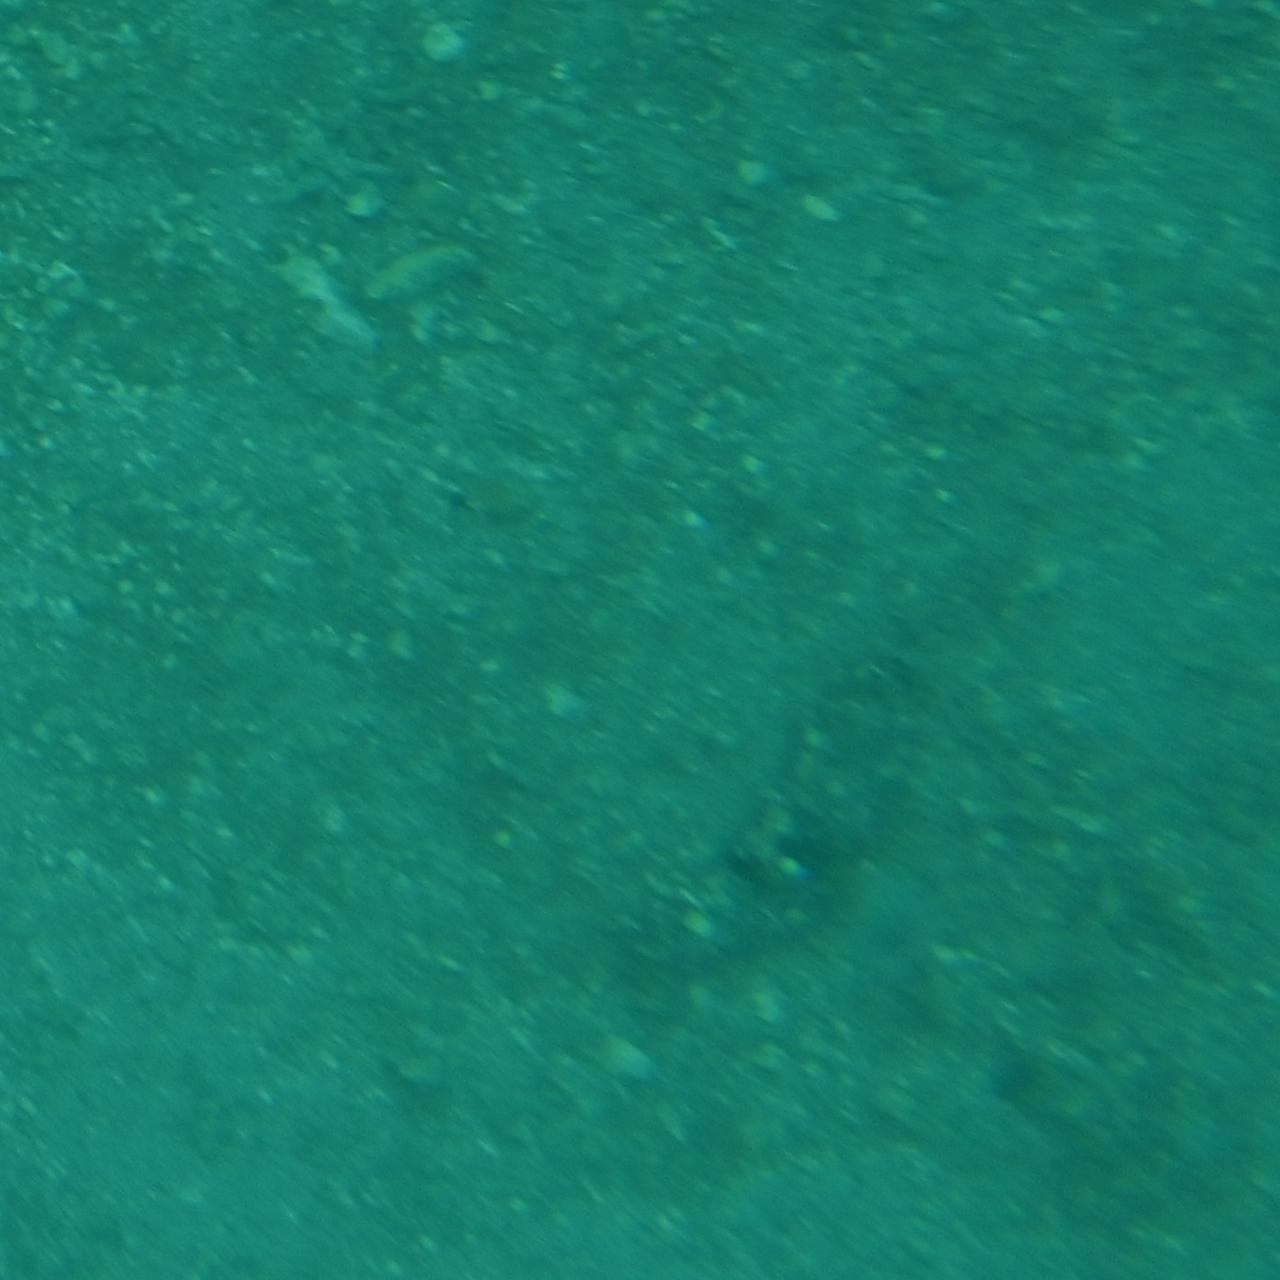Holothuria tubulosa: (600, 532, 996, 990)
